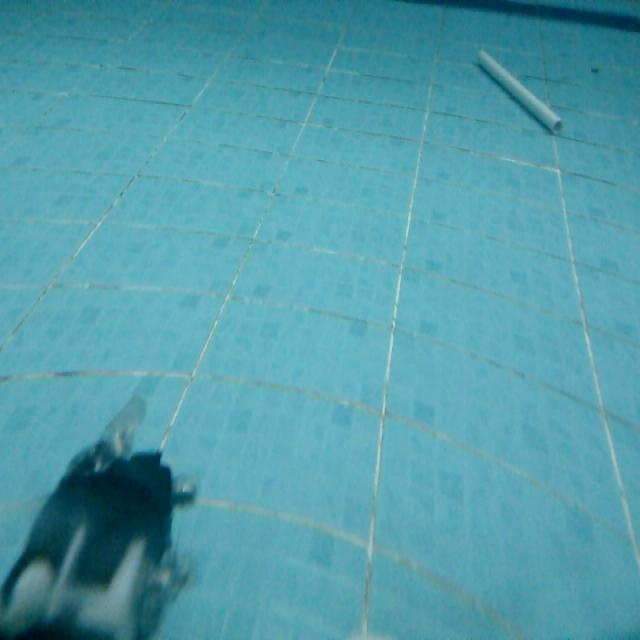Cube: (473, 43, 565, 137)
